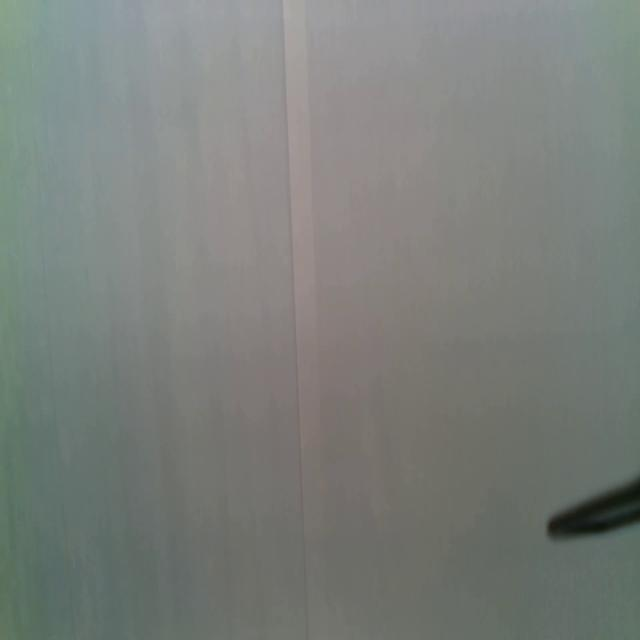crease: (281, 0, 310, 640)
